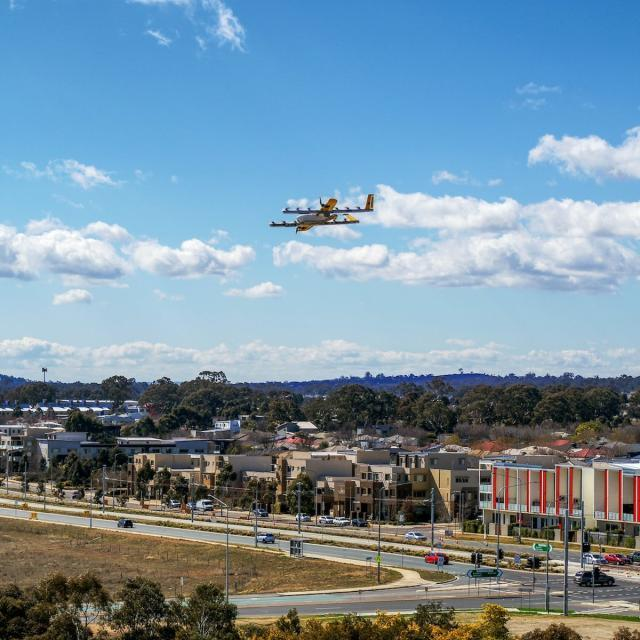iha: (297, 189, 344, 241)
